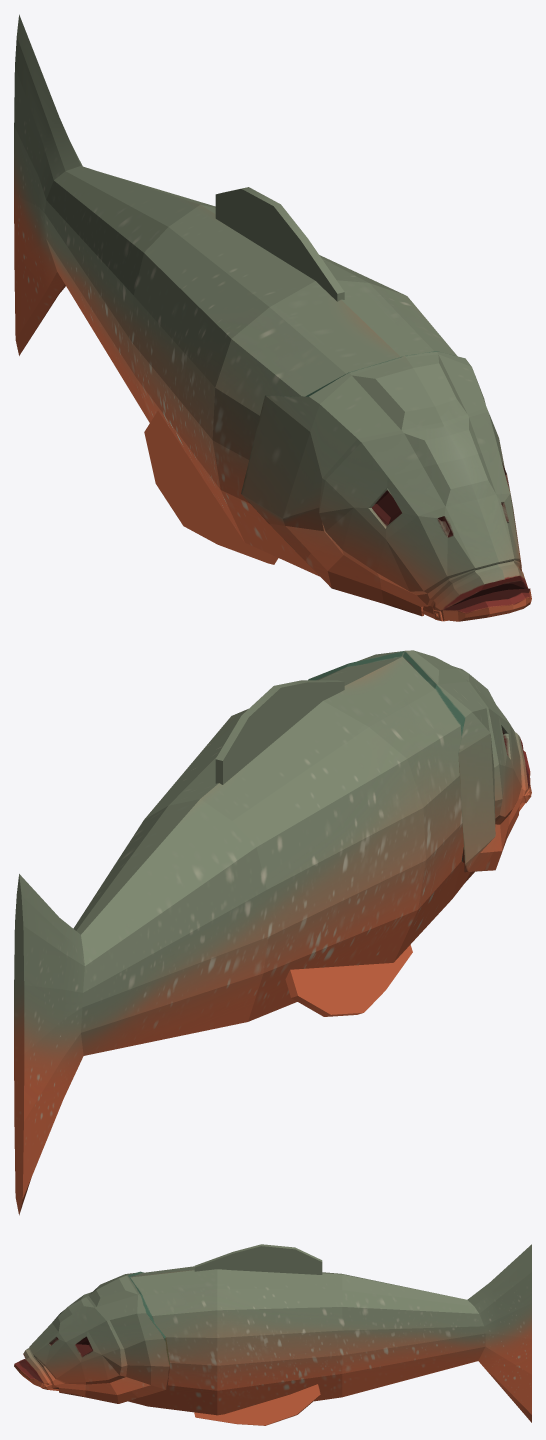
File: Fish-UV.fbx
3 views of the same model, one above another, from view 1: azimuth 30°, elevation 25°; view 2: azimuth 150°, elevation 25°; view 3: azimuth 270°, elevation 25° (orthographic). The views are drawn at different scales.
Visible parts, largest first — view 1: polySurface3, pCube8, pCube6; view 2: polySurface3, pCube6, pCube8; view 3: polySurface3, pCube6, pCube7.
Boxes of the visible parts, <box> form: polySurface3: <box>14,14,531,621</box>; pCube8: <box>144,411,278,564</box>; pCube6: <box>215,187,344,301</box>; polySurface3: <box>14,650,531,1215</box>; pCube6: <box>215,680,344,784</box>; pCube8: <box>285,945,412,1016</box>; polySurface3: <box>14,1244,531,1422</box>; pCube6: <box>194,1244,322,1274</box>; pCube7: <box>194,1384,320,1425</box>.
Bounding box in the file's own units: 2.25 × 3.35 × 8.79.
